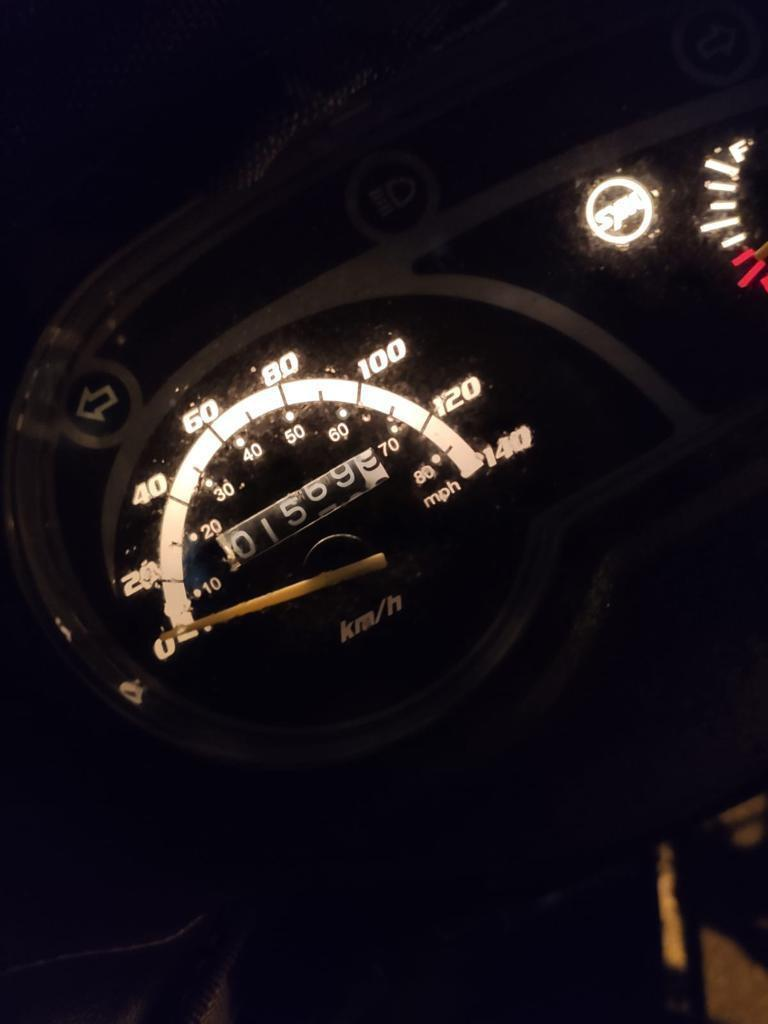0: (229, 529, 258, 560), (222, 479, 236, 496), (210, 517, 223, 533), (250, 441, 262, 458)
1: (257, 514, 282, 546)
3: (213, 487, 226, 503)
4: (242, 447, 255, 463)
5: (277, 496, 308, 525)
6: (299, 476, 328, 501)
7: (376, 441, 390, 458)
9: (353, 446, 382, 473), (328, 463, 357, 488)
odometer: (214, 441, 397, 575)
